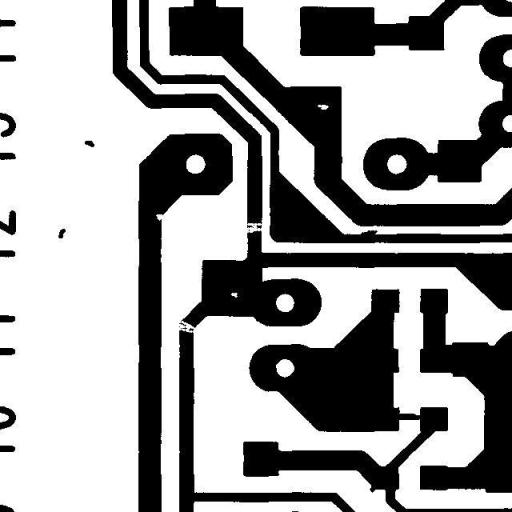copper: (50, 220, 73, 246), (76, 133, 102, 154)
mousebite: (148, 206, 170, 228)
open: (236, 215, 274, 240), (169, 313, 204, 340)
pin-hole: (310, 97, 336, 117), (223, 285, 245, 305)
short: (386, 406, 430, 427)
spur: (353, 222, 385, 245), (362, 478, 382, 500)
